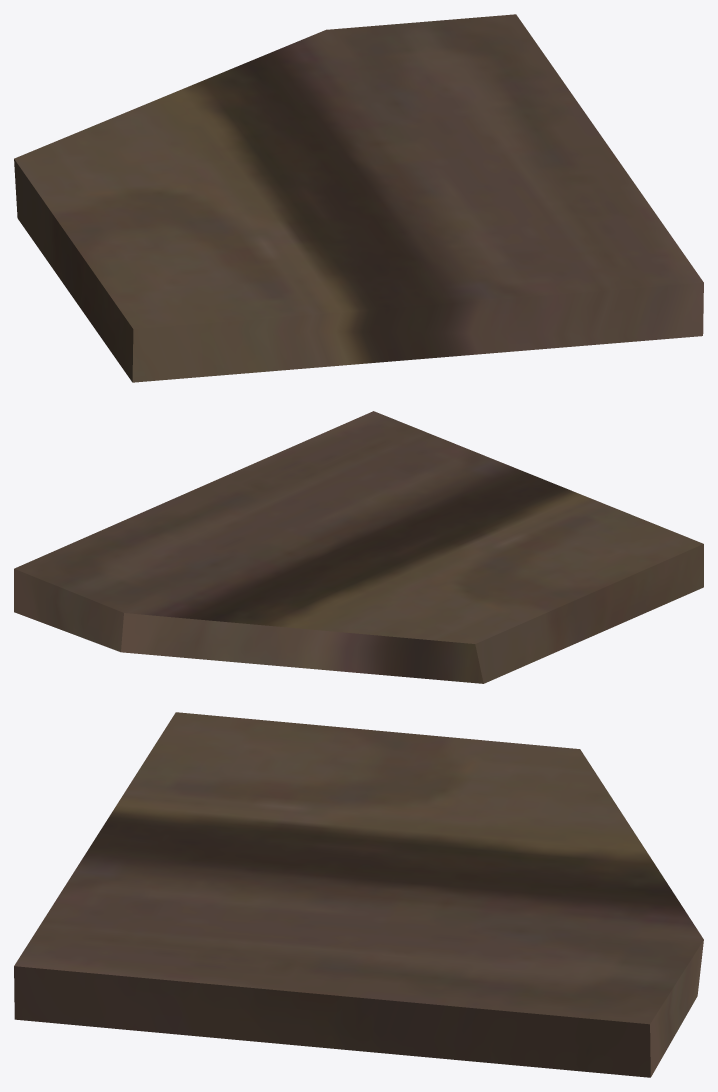
File: fangkuaishitou02.FBX
The picture shows the model from 3 angles, top to bottom: view 1: azimuth 30°, elevation 25°; view 2: azimuth 150°, elevation 25°; view 3: azimuth 270°, elevation 25°; orthographic projection. The views are drawn at different scales.
Visible parts, largest first — view 1: fangkuaishitou02; view 2: fangkuaishitou02; view 3: fangkuaishitou02.
Boxes of the visible parts, bbox=[...] form: fangkuaishitou02: bbox=[14, 14, 703, 382]; fangkuaishitou02: bbox=[14, 411, 703, 683]; fangkuaishitou02: bbox=[14, 712, 703, 1077].
Bounding box in the file's own units: 59.78 × 6.51 × 57.45.
